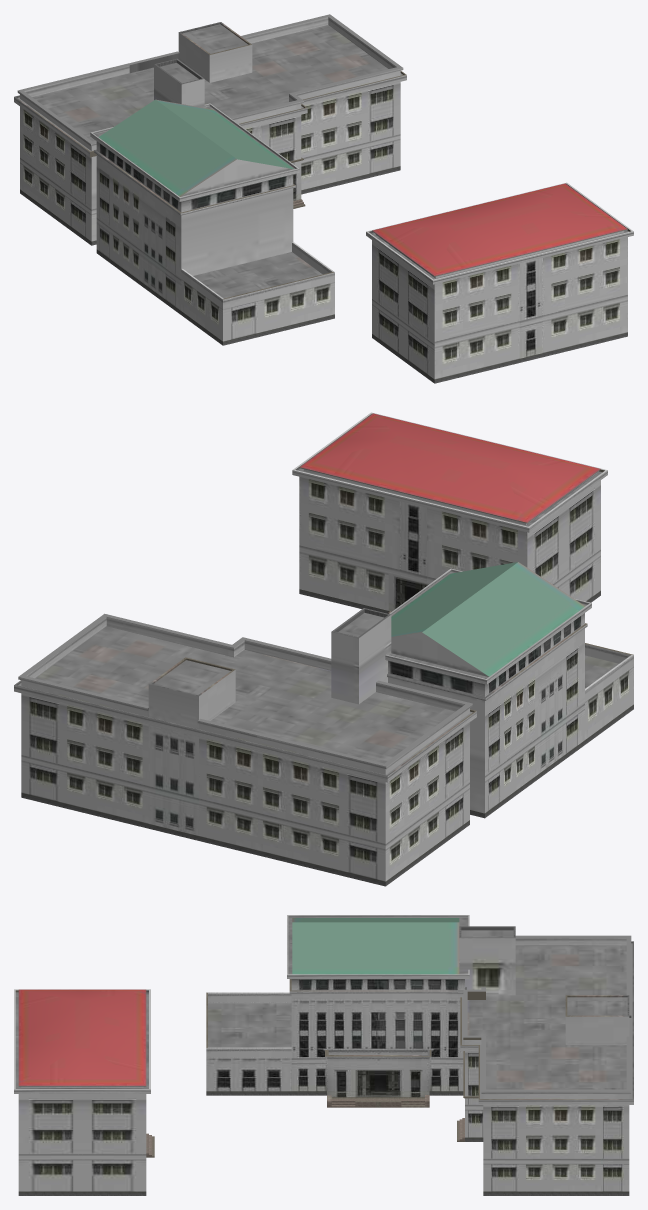
The picture shows the model from 3 angles, top to bottom: view 1: azimuth 30°, elevation 25°; view 2: azimuth 150°, elevation 25°; view 3: azimuth 270°, elevation 25°; orthographic projection. The views are drawn at different scales.
Parts seen in each view (by area): view 1: HN834_PeaceSchoolNurserySchool; view 2: HN834_PeaceSchoolNurserySchool; view 3: HN834_PeaceSchoolNurserySchool.
Part boxes in pixels (left/top/right/bottom): HN834_PeaceSchoolNurserySchool: left=14, top=14, right=633, bottom=383; HN834_PeaceSchoolNurserySchool: left=14, top=412, right=633, bottom=886; HN834_PeaceSchoolNurserySchool: left=14, top=915, right=633, bottom=1195.
Bounding box in the file's own units: 41.5 × 18.64 × 67.89.
1 material, 1 textured.
